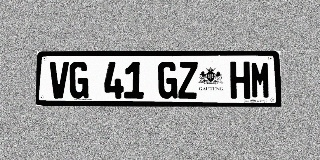1: (124, 62, 144, 99)
4: (104, 62, 124, 99)
G: (69, 62, 89, 99), (158, 61, 177, 99)
H: (230, 61, 250, 99)
M: (250, 61, 271, 99)
V: (49, 62, 69, 99)
Z: (178, 61, 198, 99)
